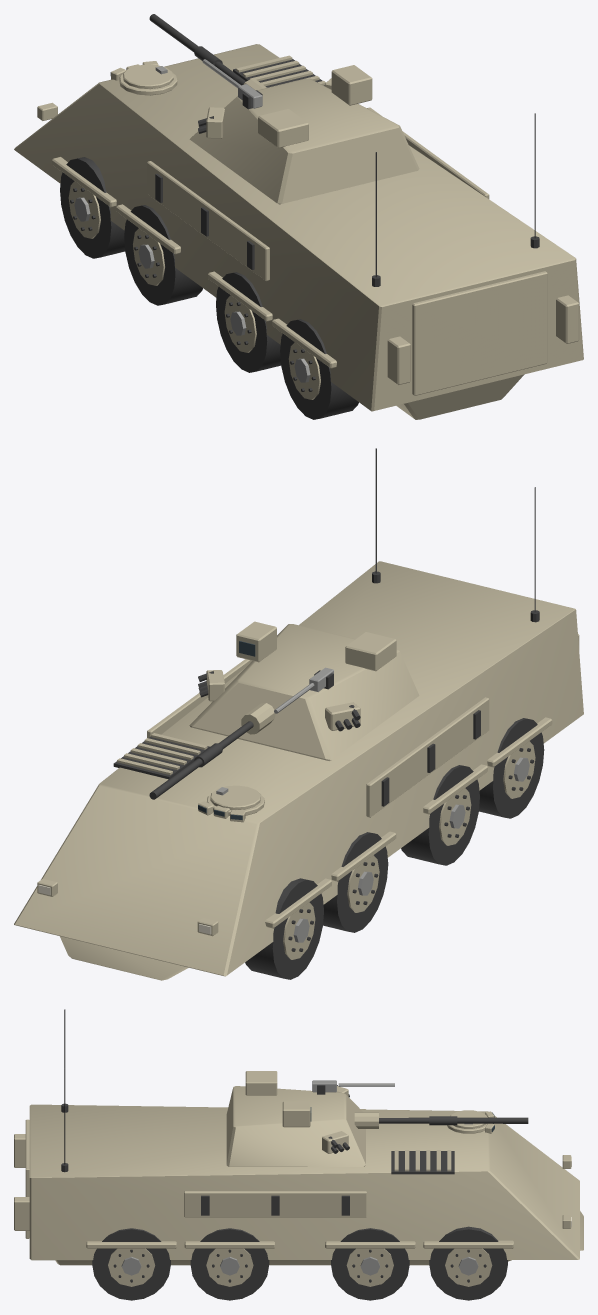
Rendered from usa_ifv_acv30.glb.
The picture shows the model from 3 angles, top to bottom: view 1: azimuth 30°, elevation 25°; view 2: azimuth 150°, elevation 25°; view 3: azimuth 270°, elevation 25°; orthographic projection. The views are drawn at different scales.
Visible parts, largest first — view 1: body, turret, wheel_2, wheel_6, wheel_0, wheel_4, barrel; view 2: body, turret, wheel_0, wheel_4, wheel_6, wheel_2, barrel; view 3: body, turret, wheel_1, wheel_3, wheel_5, wheel_7, barrel.
Boxes of the visible parts, box(x1,y1,x2,y2) form: body: box(14, 44, 583, 419); turret: box(189, 59, 419, 204); wheel_2: box(124, 205, 202, 305); wheel_6: box(280, 319, 358, 419); wheel_0: box(60, 157, 125, 258); wheel_4: box(216, 272, 281, 372); barrel: box(149, 14, 266, 90); body: box(14, 448, 583, 980); turret: box(189, 621, 419, 760); wheel_0: box(245, 878, 323, 979); wheel_4: box(401, 765, 479, 865); wheel_6: box(479, 718, 544, 818); wheel_2: box(323, 832, 388, 932); barrel: box(149, 703, 275, 799); body: box(14, 1009, 583, 1265); turret: box(226, 1071, 394, 1166); wheel_1: box(429, 1226, 507, 1300); wheel_3: box(331, 1228, 409, 1300); wheel_5: box(190, 1228, 269, 1300); wheel_7: box(92, 1228, 170, 1300); barrel: box(354, 1112, 528, 1128).
Size of the model in its own units: 2.88 by 3.48 by 8.12.
